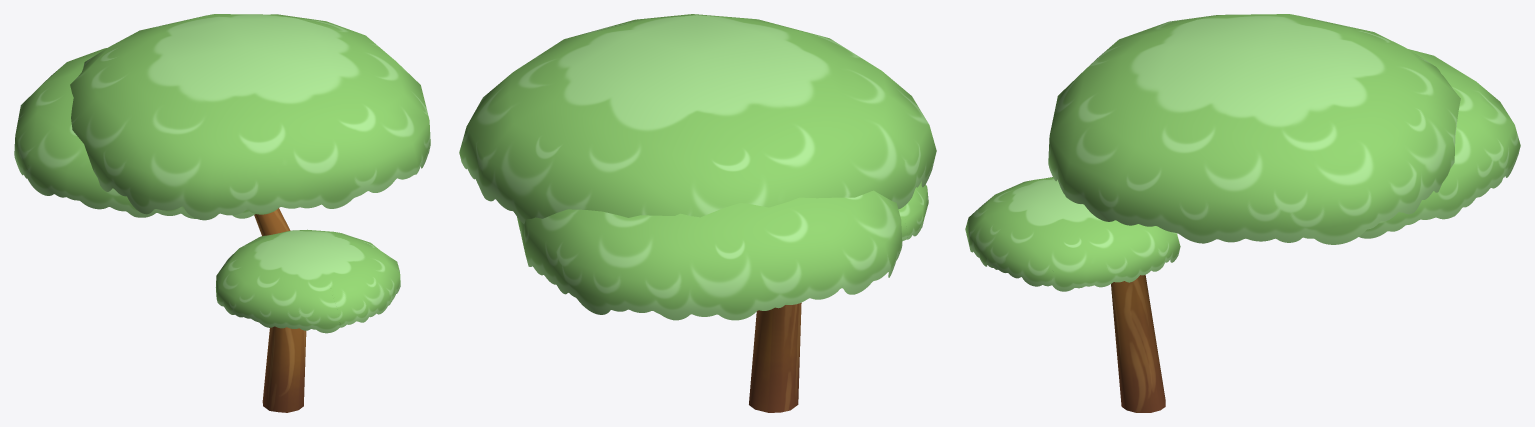
File: arvore 1.fbx
3 views of the same model, side by side, from view 1: azimuth 30°, elevation 25°; view 2: azimuth 150°, elevation 25°; view 3: azimuth 270°, elevation 25° (orthographic). The views are drawn at different scales.
Parts seen in each view (by area): view 1: copa arvore 2.004, copa arvore 2.003, copa arvore 2.005, tronco 1.002; view 2: copa arvore 2.004, copa arvore 2.005, tronco 1.002, copa arvore 2.003; view 3: copa arvore 2.004, copa arvore 2.003, copa arvore 2.005, tronco 1.002.
Part boxes in pixels (left/top/right/bottom): copa arvore 2.004: left=70, top=14, right=430, bottom=220; copa arvore 2.003: left=215, top=229, right=400, bottom=333; copa arvore 2.005: left=14, top=48, right=254, bottom=218; tronco 1.002: left=254, top=208, right=306, bottom=412; copa arvore 2.004: left=459, top=14, right=936, bottom=224; copa arvore 2.005: left=517, top=190, right=902, bottom=320; tronco 1.002: left=749, top=302, right=801, bottom=412; copa arvore 2.003: left=898, top=181, right=928, bottom=241; copa arvore 2.004: left=1048, top=14, right=1460, bottom=244; copa arvore 2.003: left=965, top=177, right=1180, bottom=291; copa arvore 2.005: left=1359, top=49, right=1520, bottom=238; tronco 1.002: left=1111, top=275, right=1165, bottom=412.
Bounding box in the file's own units: 1069 × 936 × 1310.
Materials: 2 (2 with a texture image).
